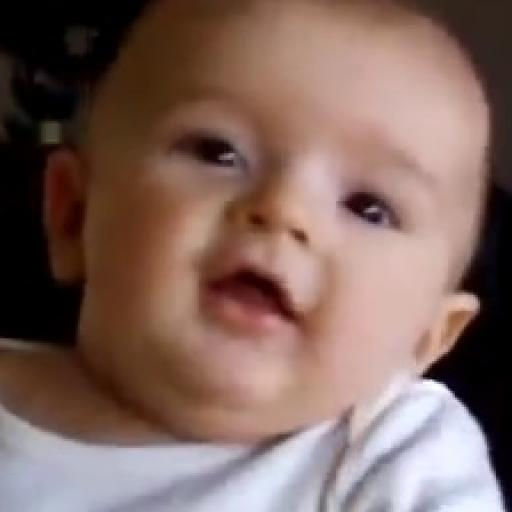Autism: (82, 8, 512, 494)
